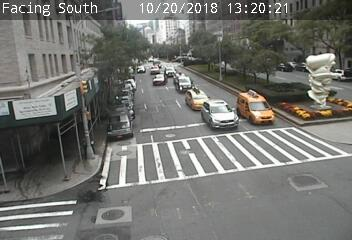car: (237, 92, 275, 124), (202, 99, 238, 129), (186, 89, 211, 111), (175, 76, 194, 93), (173, 73, 186, 85), (153, 74, 166, 85), (164, 67, 176, 76), (150, 66, 159, 75), (153, 60, 161, 69), (137, 66, 145, 73)
